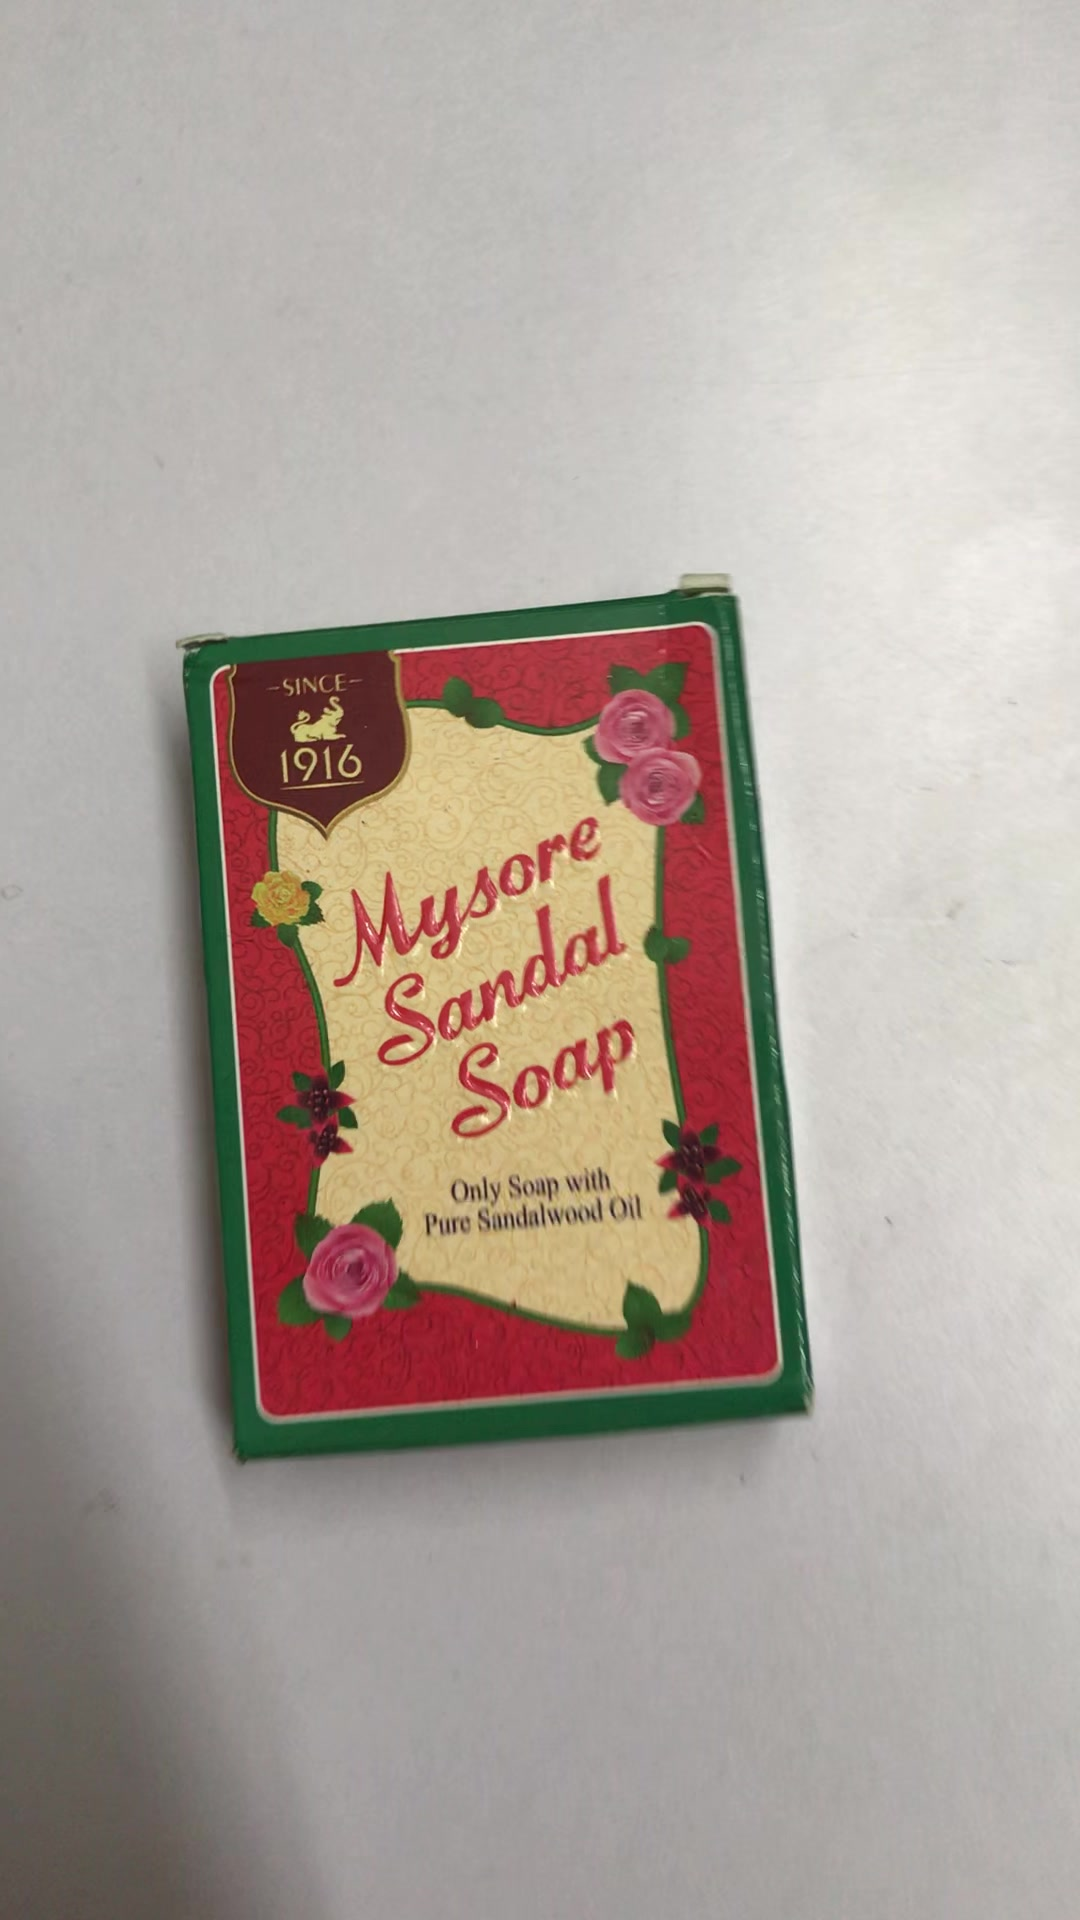mysore sandal soap: (185, 607, 814, 1461)
